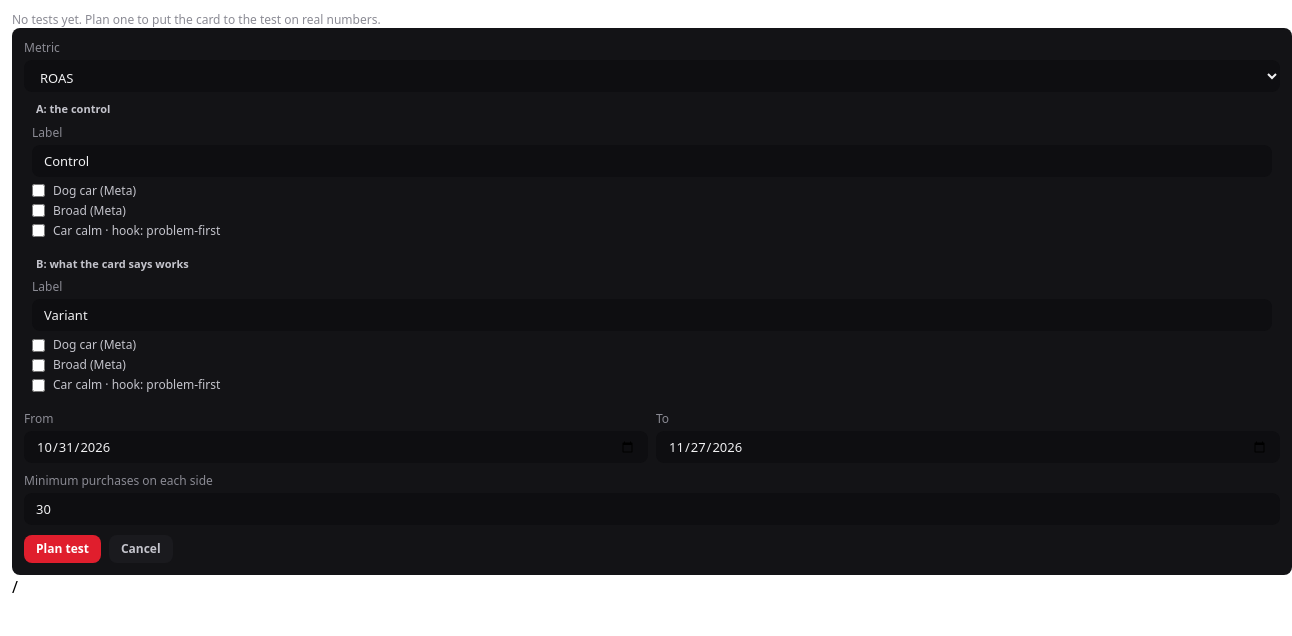
Test: Tests › opens on the form when asked, and shows why a plan was refused
The image size is (1292, 636).
Click the checkbox labelled "Dog car (Meta)" below "A: the control" at point(38, 191), box [32,184,45,197]
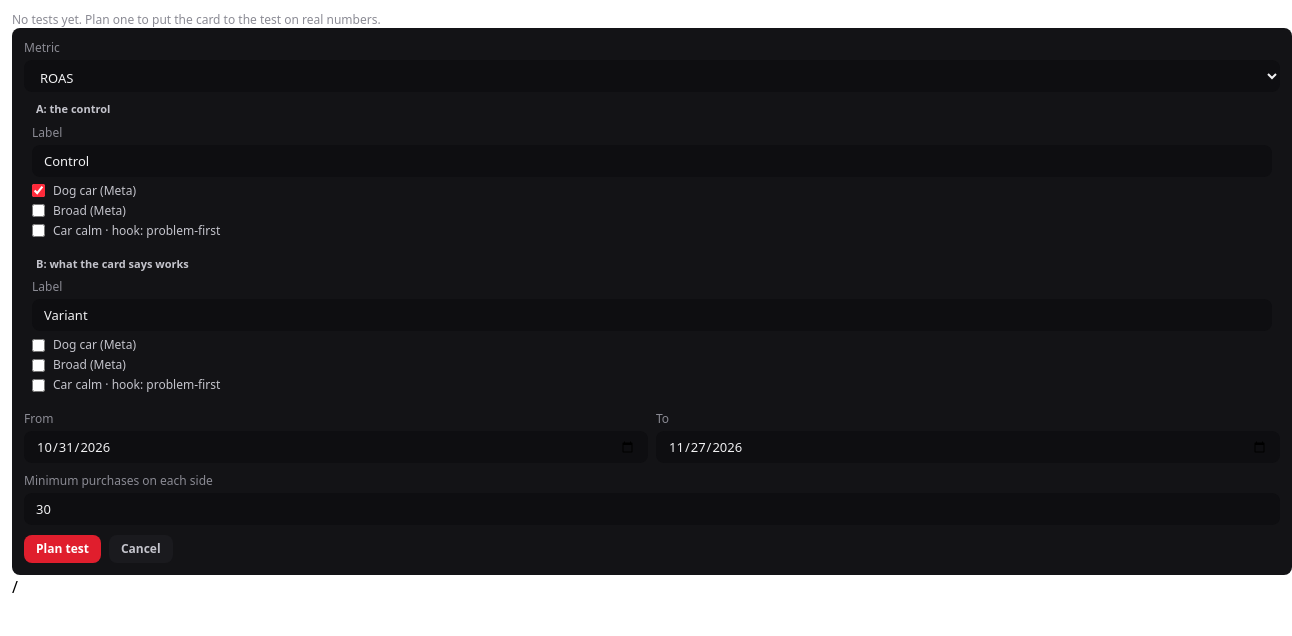
Click the checkbox labelled "Dog car (Meta)" below "B: what the card says works" at point(38, 345), box [32,339,45,352]
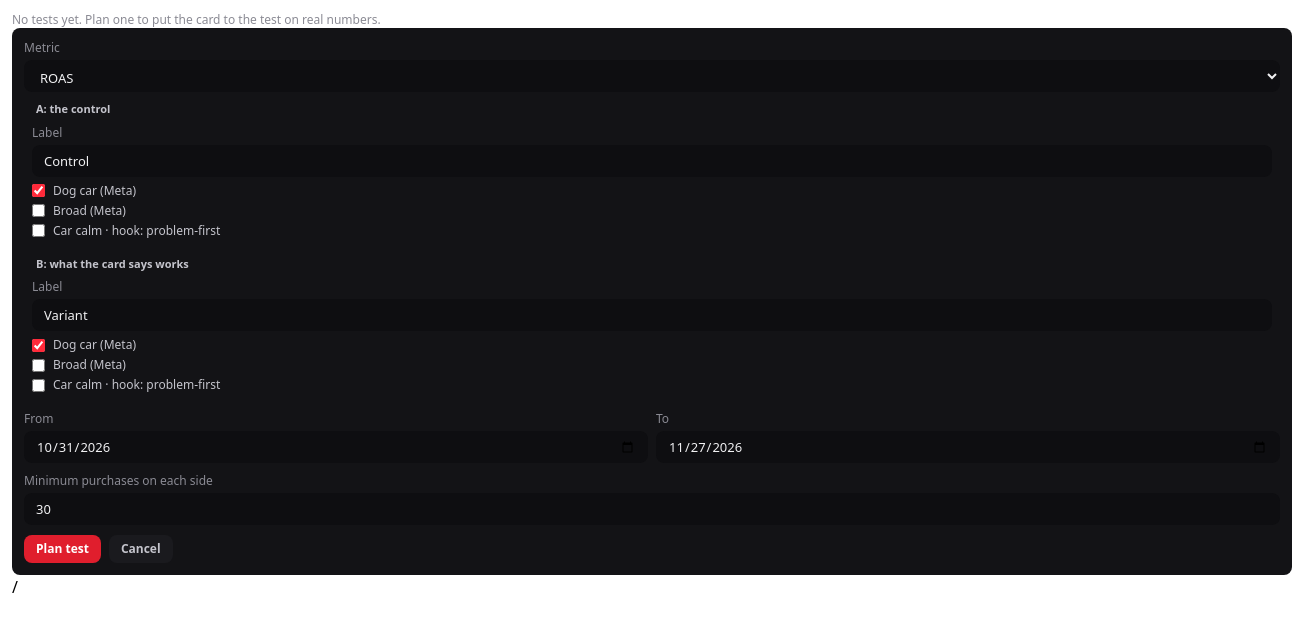
Click the button "Plan test" at point(62, 549), box [24,535,101,563]
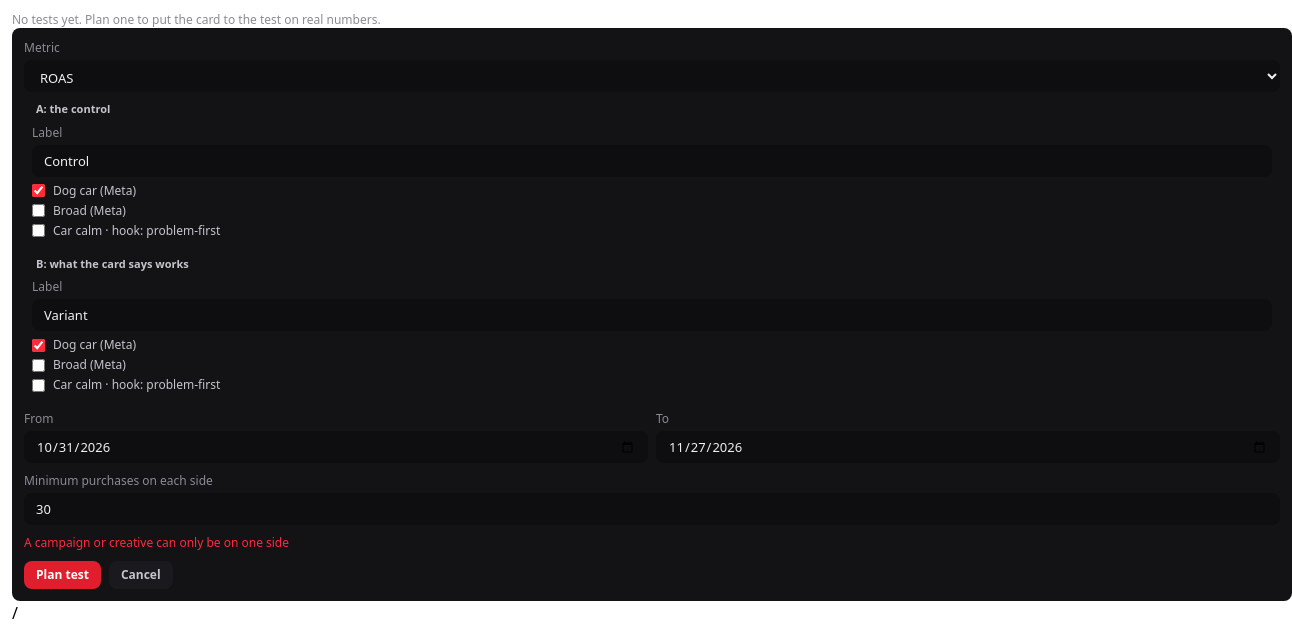
expect the message reads "A campaign or creative can only be on one side": met, box [24,534,289,551]
